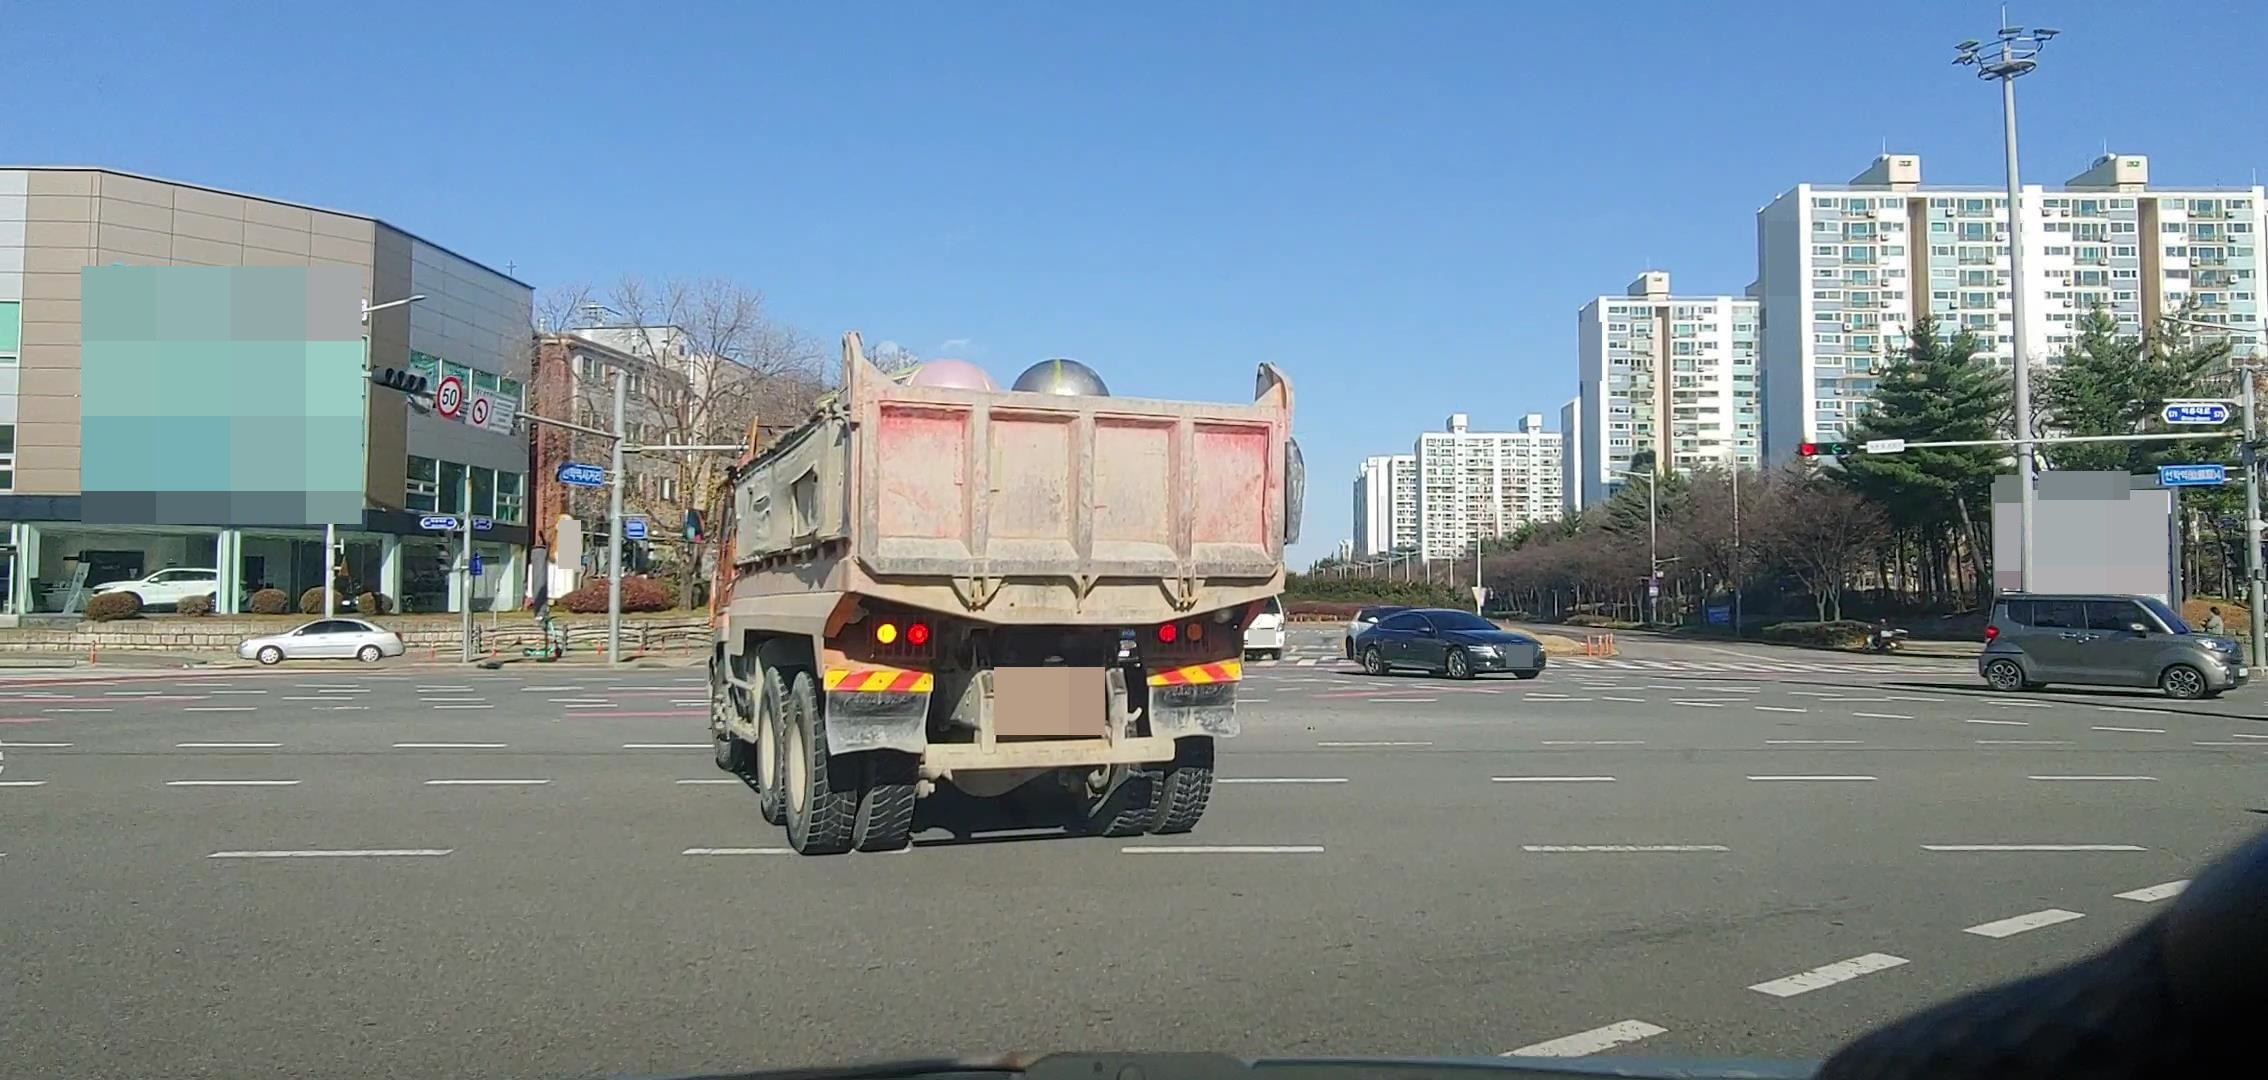불법차량: (683, 330, 1303, 854)
